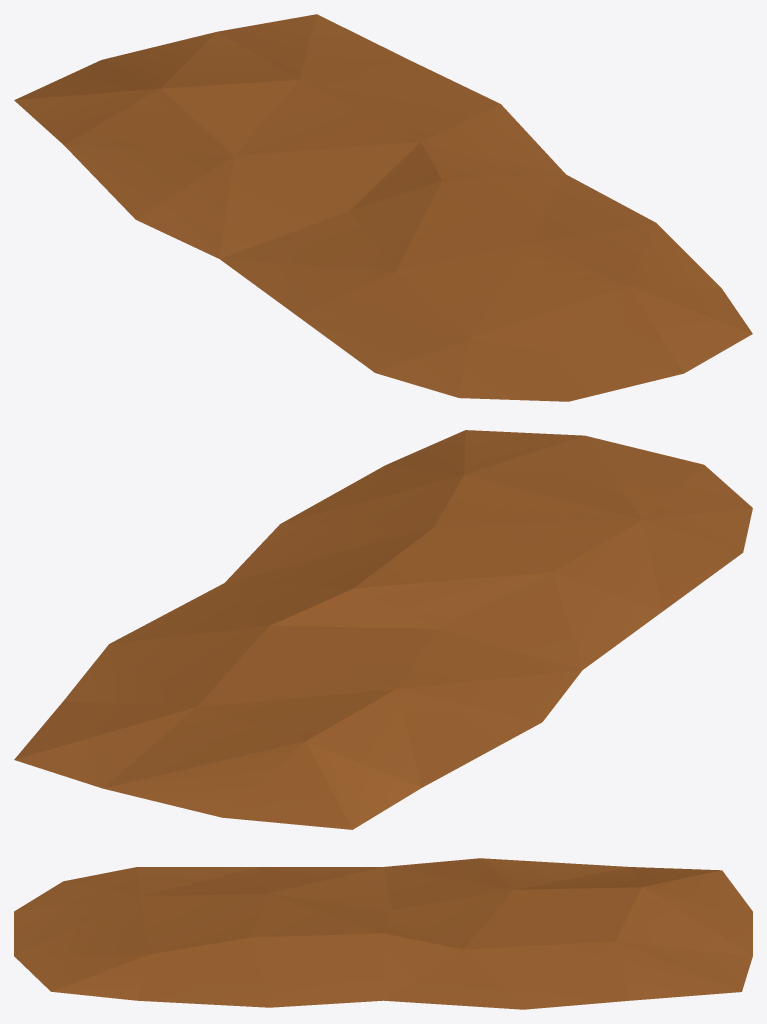
The model's file is cGround_C_8__.fbx.
3 views of the same model, one above another, from view 1: azimuth 30°, elevation 25°; view 2: azimuth 150°, elevation 25°; view 3: azimuth 270°, elevation 25° (orthographic). The views are drawn at different scales.
Parts seen in each view (by area): view 1: cGround_C_8; view 2: cGround_C_8; view 3: cGround_C_8.
Part boxes in pixels (left/top/right/bottom): cGround_C_8: left=14, top=14, right=752, bottom=401; cGround_C_8: left=14, top=430, right=752, bottom=829; cGround_C_8: left=14, top=858, right=752, bottom=1009.
Size of the model in its own units: 776 by 48.03 by 1600.
